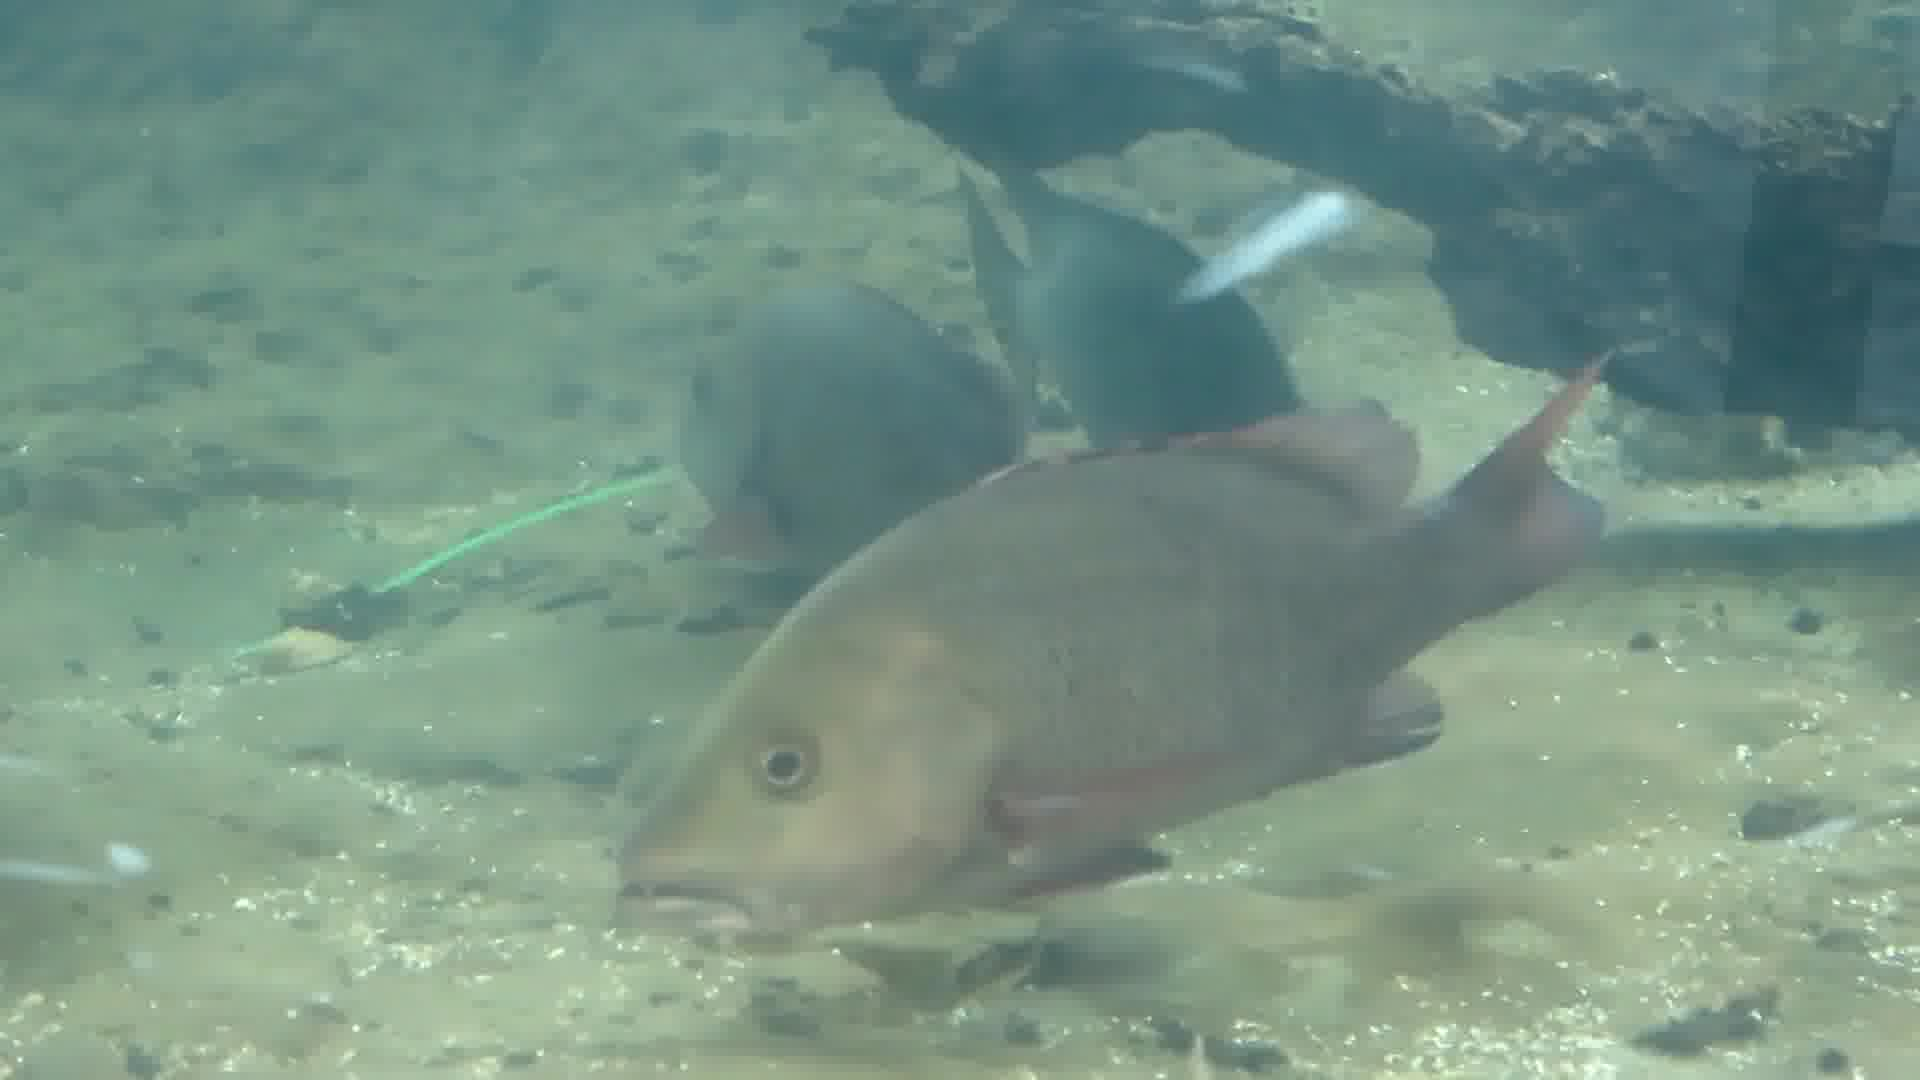Lutjanus argentimaculatus: (644, 444, 1452, 914)
